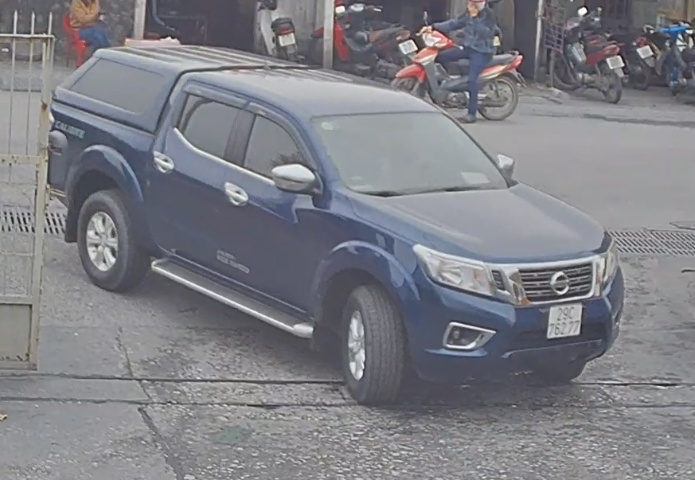vehicle plate: (542, 298, 586, 339)
